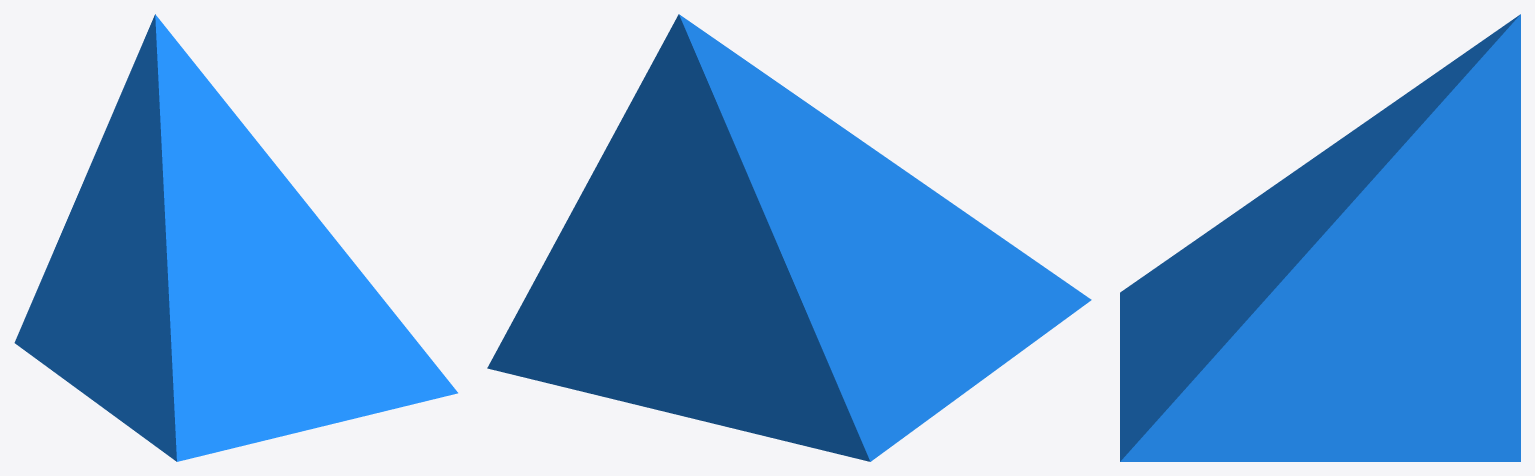
The model's file is Proto_Block_Triangle_Peak_End_01.fbx.
The picture shows the model from 3 angles, left to right: view 1: azimuth 30°, elevation 25°; view 2: azimuth 150°, elevation 25°; view 3: azimuth 270°, elevation 25°; orthographic projection. The views are drawn at different scales.
Visible parts, largest first — view 1: Proto_Block_Triangle_Peak_End_01; view 2: Proto_Block_Triangle_Peak_End_01; view 3: Proto_Block_Triangle_Peak_End_01.
Part boxes in pixels (bbox=[...]): Proto_Block_Triangle_Peak_End_01: bbox=[14, 14, 457, 461]; Proto_Block_Triangle_Peak_End_01: bbox=[487, 14, 1091, 461]; Proto_Block_Triangle_Peak_End_01: bbox=[1120, 14, 1520, 461].
Bounding box in the file's own units: 1 × 1 × 1.
